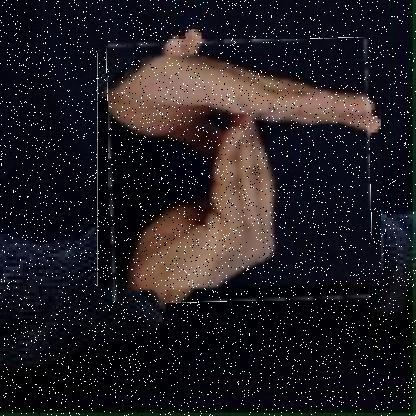Z: (108, 39, 371, 302)
